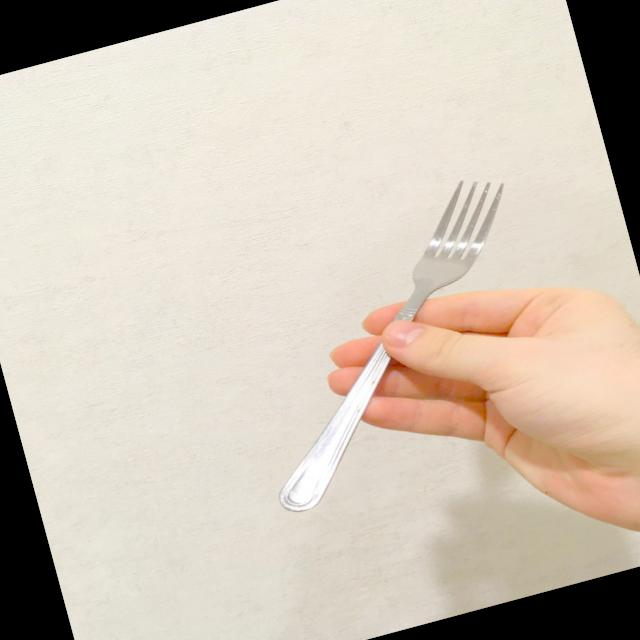fork: (211, 167, 574, 517)
